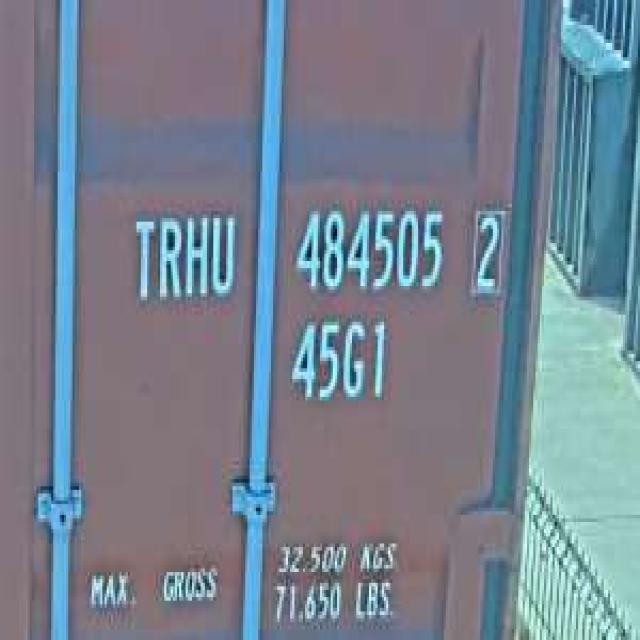dv: (467, 200, 508, 304)
owner: (126, 200, 239, 311)
serial: (290, 193, 448, 304)
size: (284, 311, 390, 415)
